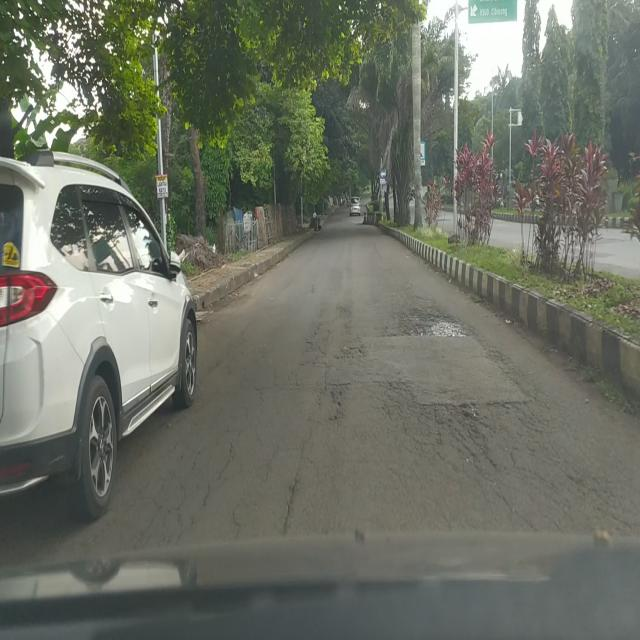Drain Hole: (128, 377, 350, 543), (377, 381, 631, 524), (305, 282, 366, 372)
